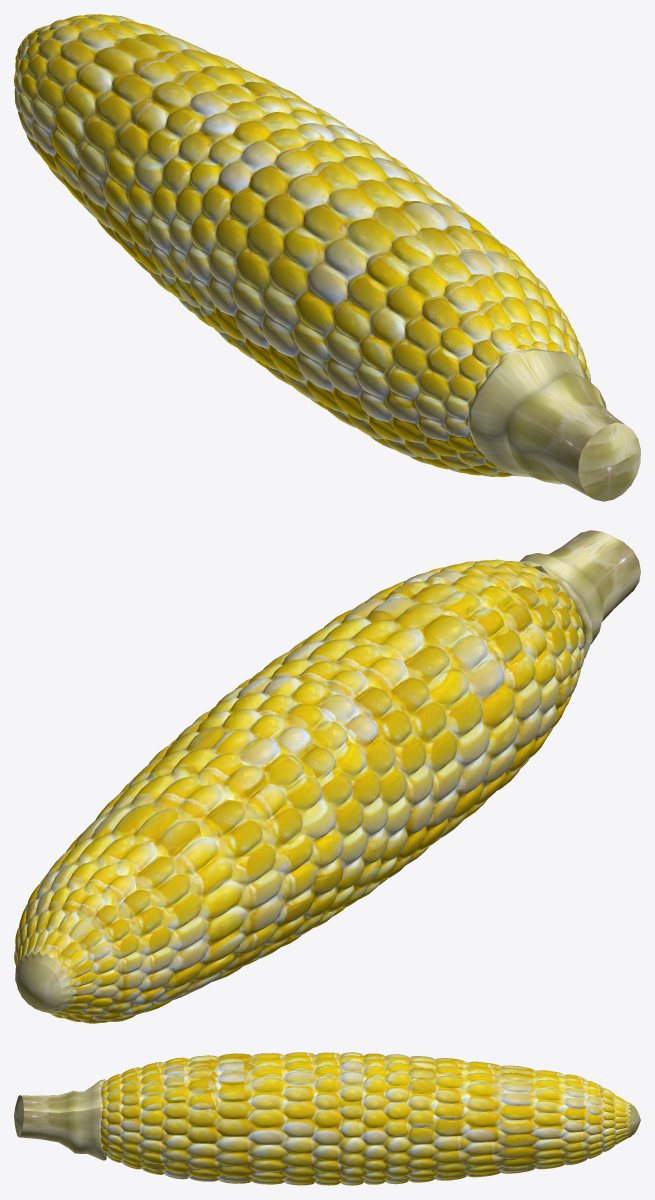
The model's file is corn.obj.
3 views of the same model, one above another, from view 1: azimuth 30°, elevation 25°; view 2: azimuth 150°, elevation 25°; view 3: azimuth 270°, elevation 25° (orthographic). The views are drawn at different scales.
Parts seen in each view (by area): view 1: corn; view 2: corn; view 3: corn.
Part boxes in pixels (<box>): corn: <box>14,14,640,501</box>; corn: <box>14,530,640,1023</box>; corn: <box>14,1052,640,1185</box>.
Size of the model in its own units: 0.8765 by 0.8779 by 4.11.
